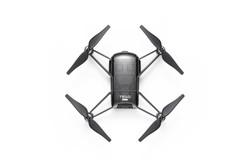drone: (55, 24, 195, 149)
